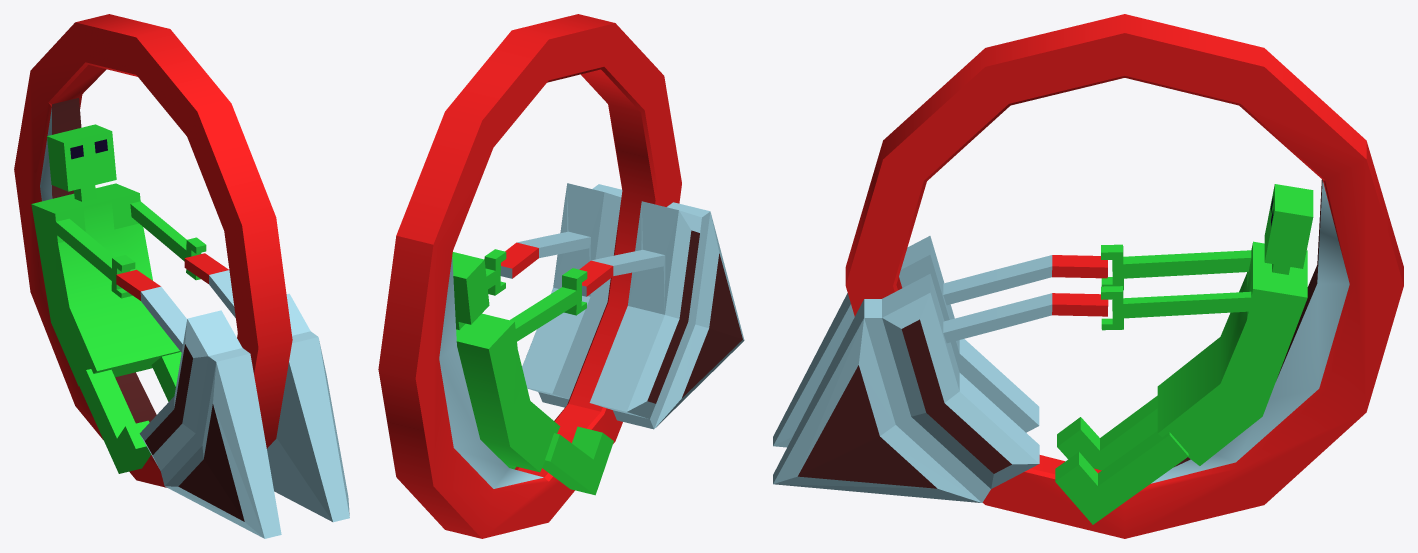
The model's file is jack_003.FBX.
The picture shows the model from 3 angles, left to right: view 1: azimuth 30°, elevation 25°; view 2: azimuth 150°, elevation 25°; view 3: azimuth 270°, elevation 25°; orthographic projection. The views are drawn at different scales.
Parts seen in each view (by area): view 1: Cylinder001, SegBody, SegRLeg_L, SegRLeg_R; view 2: Cylinder001, SegBody, SegRLeg_L; view 3: Cylinder001, SegBody, SegRLeg_R, SegRLeg_L.
Part boxes in pixels (box(x1,y1,x2,y2)): Cylinder001: box(14, 14, 349, 538); SegBody: box(31, 124, 206, 386); SegRLeg_L: box(77, 369, 151, 473); SegRLeg_R: box(151, 351, 181, 401); Cylinder001: box(378, 14, 744, 538); SegBody: box(452, 249, 587, 472); SegRLeg_L: box(542, 426, 613, 495); Cylinder001: box(773, 14, 1403, 538); SegBody: box(1101, 184, 1313, 465); SegRLeg_R: box(1055, 431, 1188, 524); SegRLeg_L: box(1057, 395, 1157, 470).
Bounding box in the file's own units: 10.79 × 39.37 × 44.5.
